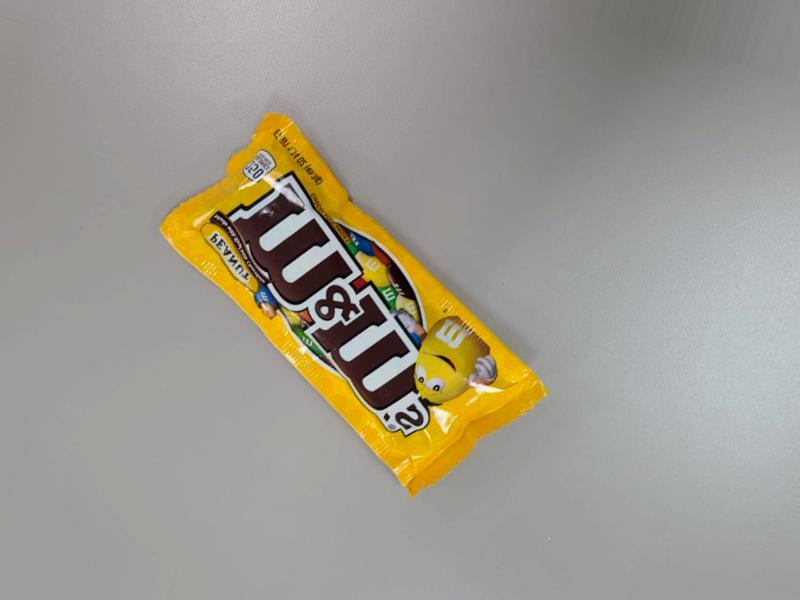m&m: (129, 81, 566, 528)
